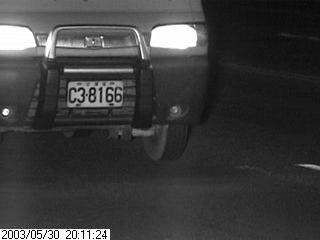plate: (66, 78, 124, 109)
